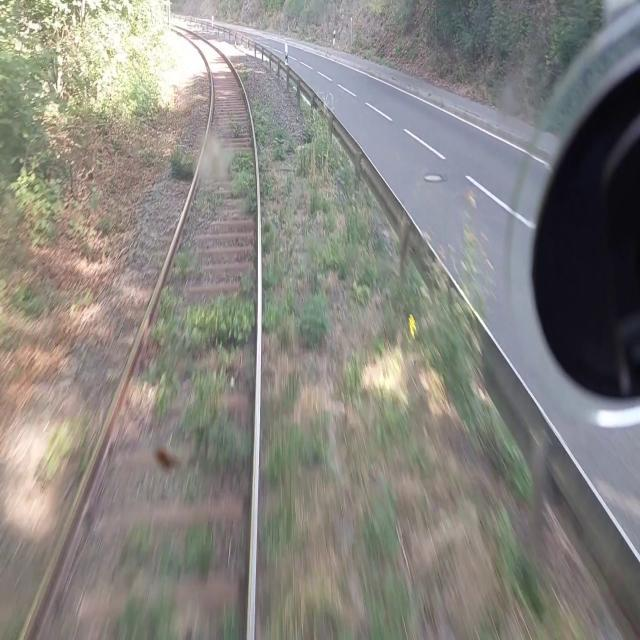Plant: (253, 110, 383, 639), (183, 363, 251, 475), (145, 285, 180, 418), (182, 292, 254, 355), (117, 584, 177, 639), (41, 417, 86, 481), (227, 148, 257, 220), (183, 518, 213, 576), (128, 526, 152, 572), (171, 249, 202, 280), (197, 187, 224, 213), (221, 600, 239, 639), (171, 148, 193, 177), (158, 540, 173, 575), (186, 473, 197, 507), (239, 272, 254, 295), (230, 120, 243, 137)
